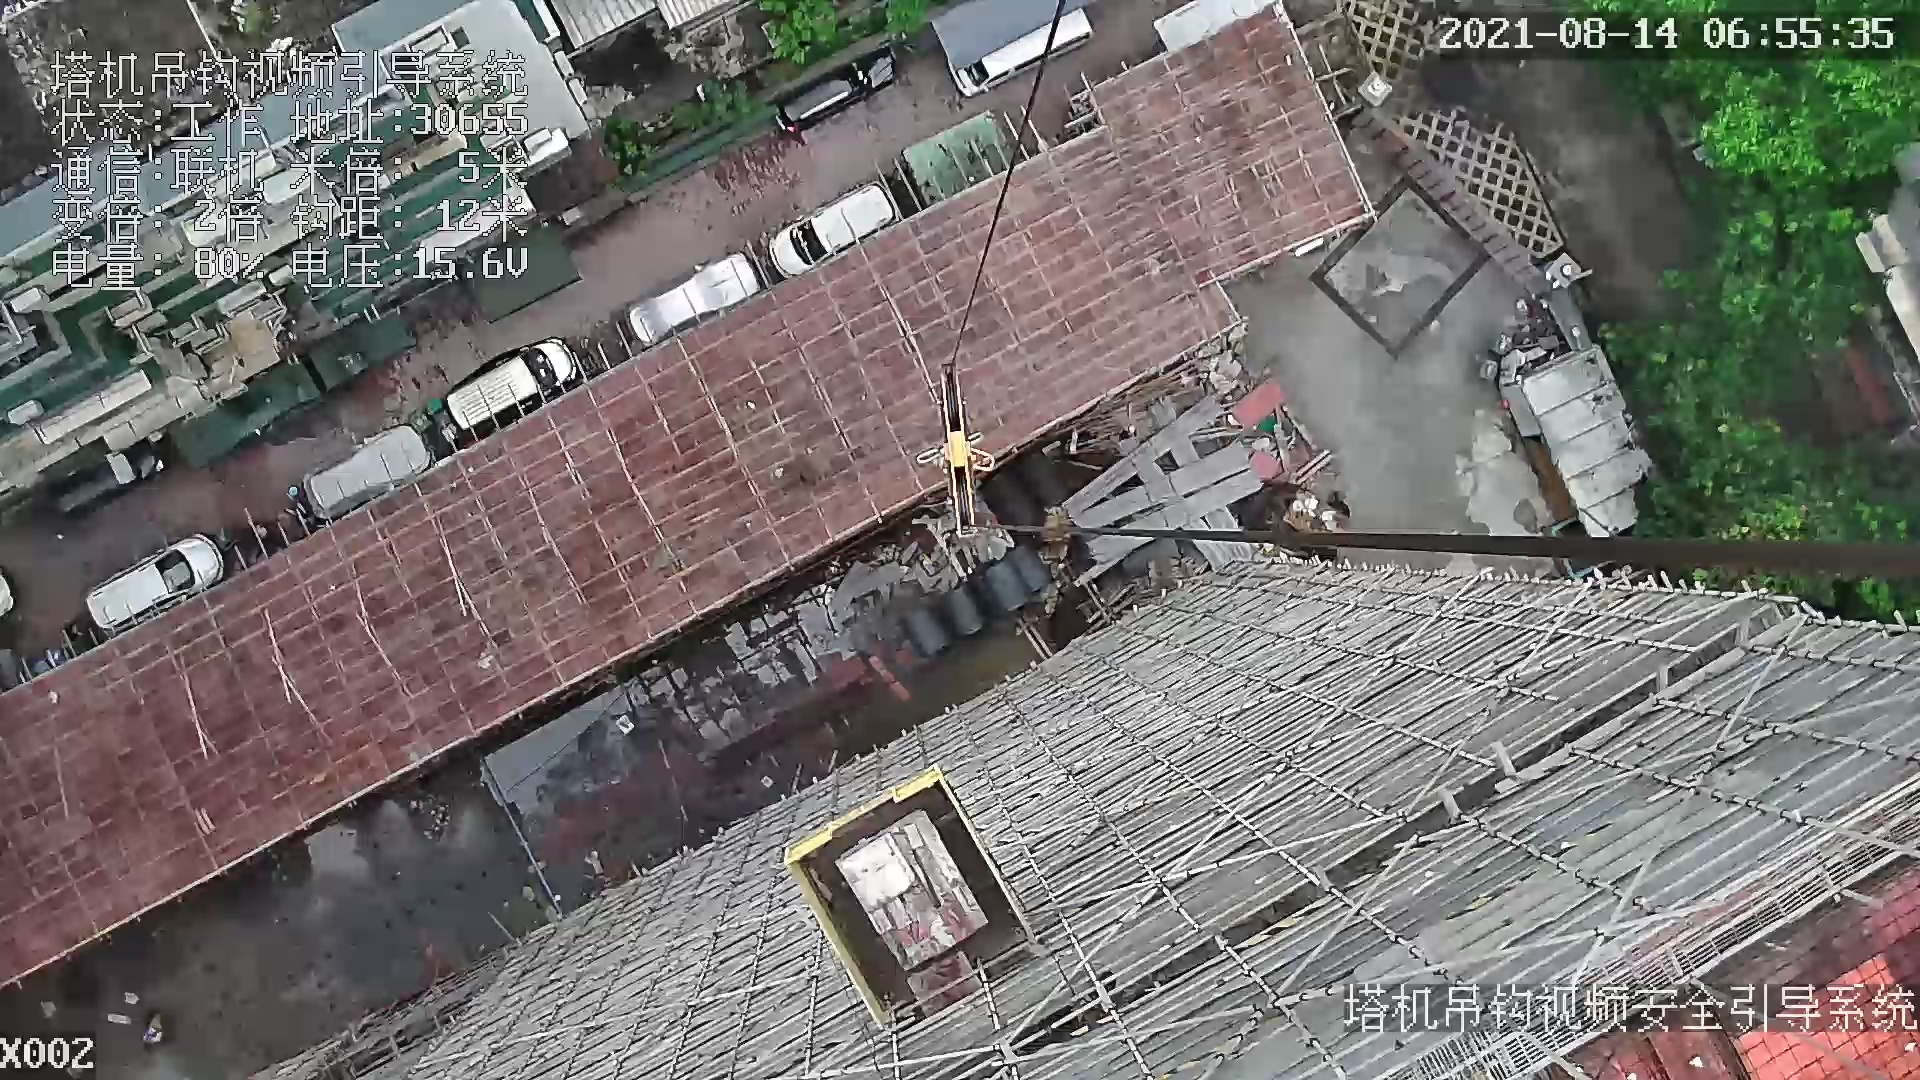board: (831, 810, 988, 972)
hook: (924, 349, 992, 546)
rebar: (1062, 397, 1222, 516), (1087, 472, 1263, 562), (1073, 440, 1249, 527)
